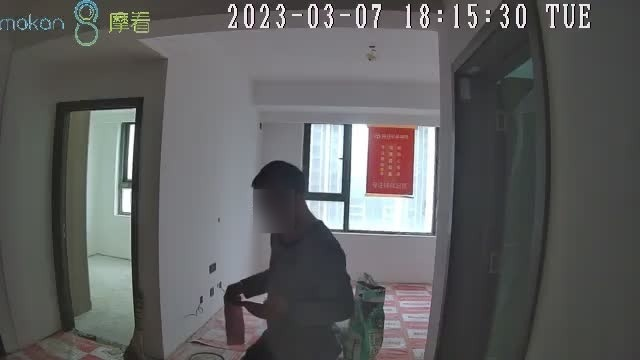people: (224, 161, 355, 360)
window: (304, 124, 435, 235)
